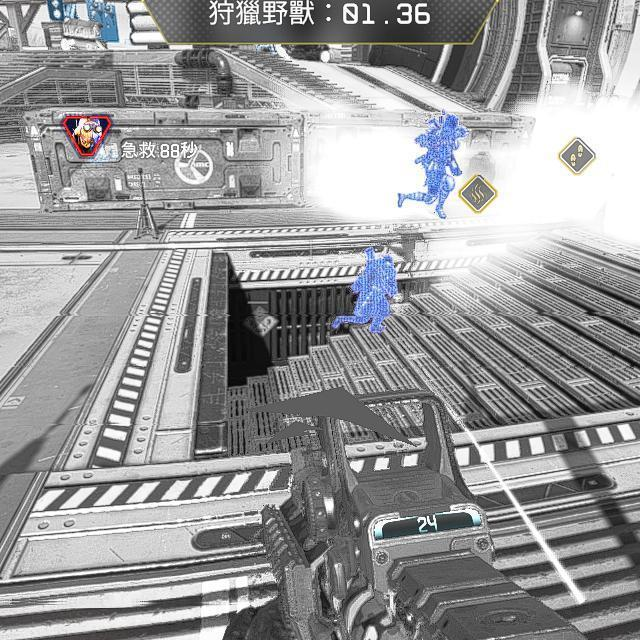avatar: (412, 113, 468, 221), (349, 252, 397, 337)
